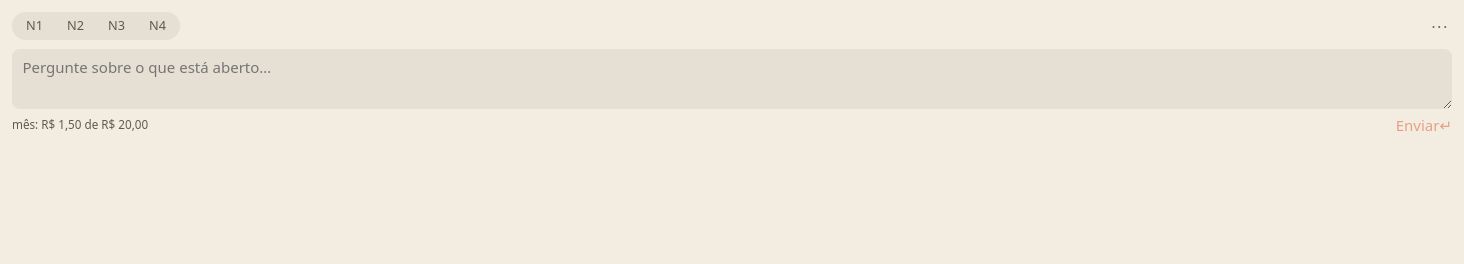
Test: erro interno do app mostra o detalhe em vez de "fora do ar"
This screenshot has width=1464, height=264.
Click the button named "N3 Esboço".
click(116, 26)  # box 96,14 -> 137,38
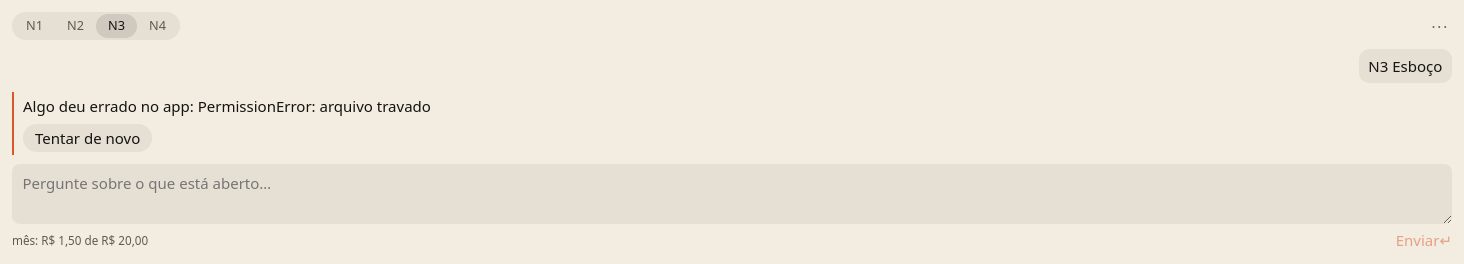
Now the text "Algo deu errado no app: PermissionError: arquivo travado" is shown, box 23,96 -> 431,116
